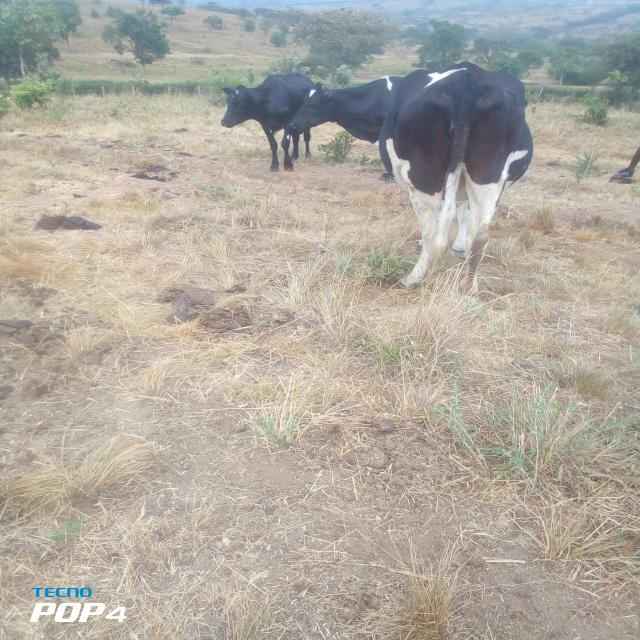cow: (369, 42, 551, 310)
